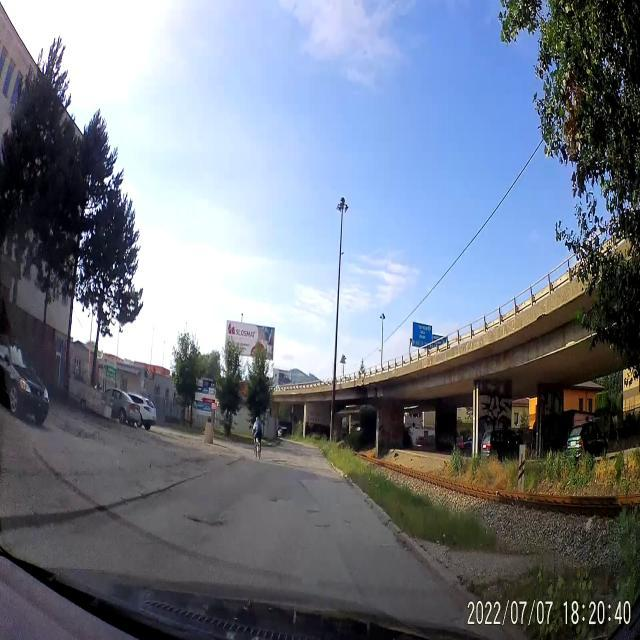Pothole: (180, 508, 226, 534), (267, 490, 295, 510), (302, 504, 324, 516), (271, 456, 292, 466), (314, 521, 332, 530), (332, 479, 346, 485), (343, 519, 352, 526)
